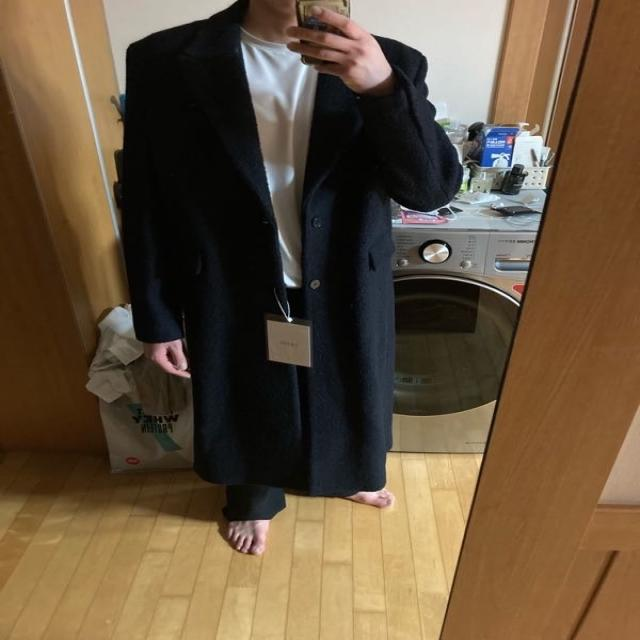coat: (113, 0, 459, 483)
